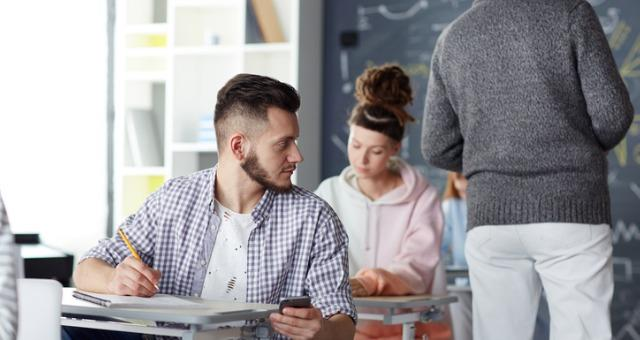cellphone: (257, 276, 349, 335)
invigilator: (426, 13, 621, 340)
student: (318, 36, 462, 307)
studentcopying: (59, 81, 365, 335)
